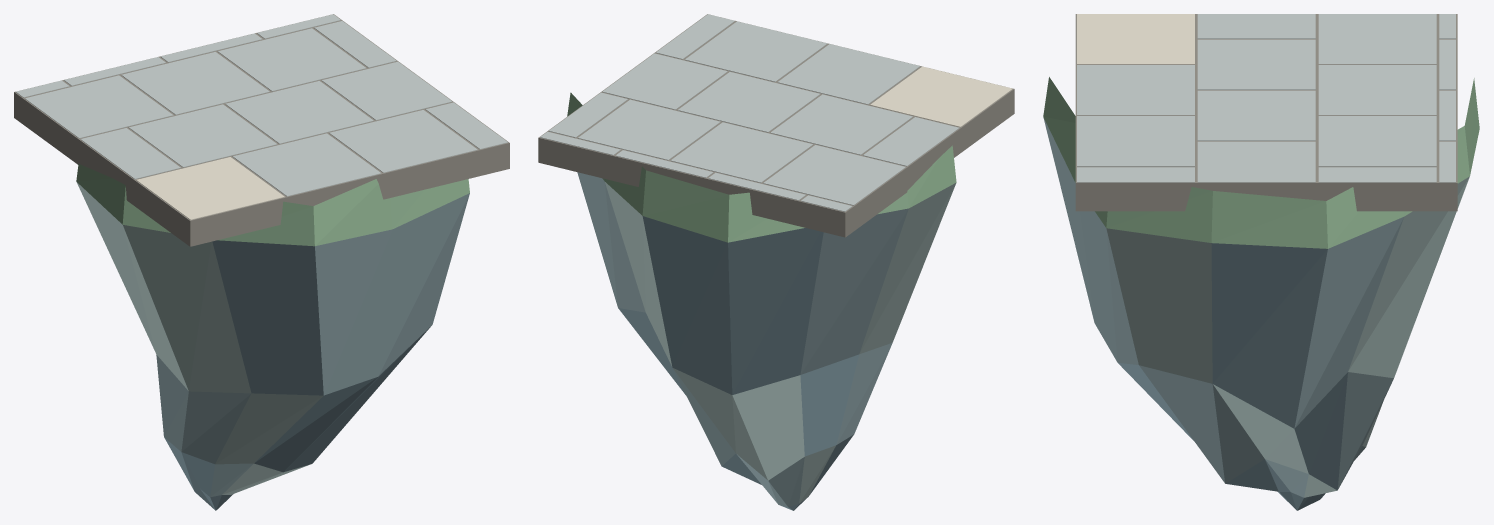
File: FloatingIsland30.glb
3 renders of one model, left to right at view 1: azimuth 30°, elevation 25°; view 2: azimuth 150°, elevation 25°; view 3: azimuth 270°, elevation 25°, orthographic. The views are drawn at different scales.
Visible parts, largest first — view 1: FloatingIsland30; view 2: FloatingIsland30; view 3: FloatingIsland30.
Boxes of the visible parts, bbox=[...] form: FloatingIsland30: bbox=[14, 14, 509, 510]; FloatingIsland30: bbox=[538, 14, 1014, 510]; FloatingIsland30: bbox=[1043, 14, 1479, 510].
Bounding box in the file's own units: 3.87 × 4.12 × 3.8.
